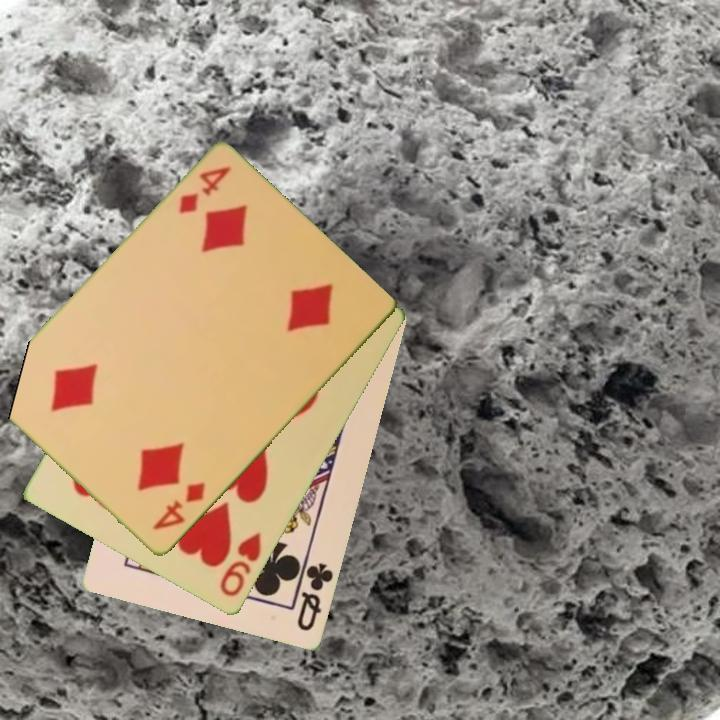4d: (149, 479, 209, 534), (175, 163, 234, 218)
9h: (216, 529, 265, 601)
Qc: (291, 553, 336, 635)
